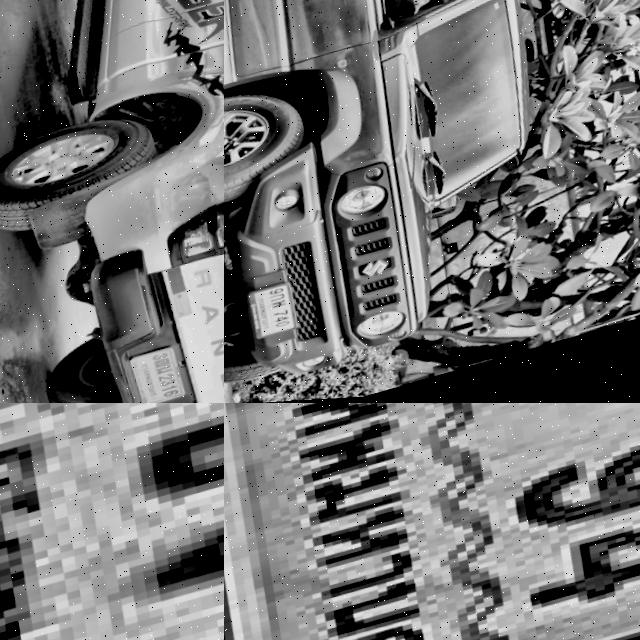license-plate: (224, 403, 640, 640), (0, 403, 224, 640), (128, 344, 202, 403), (252, 283, 309, 345)
